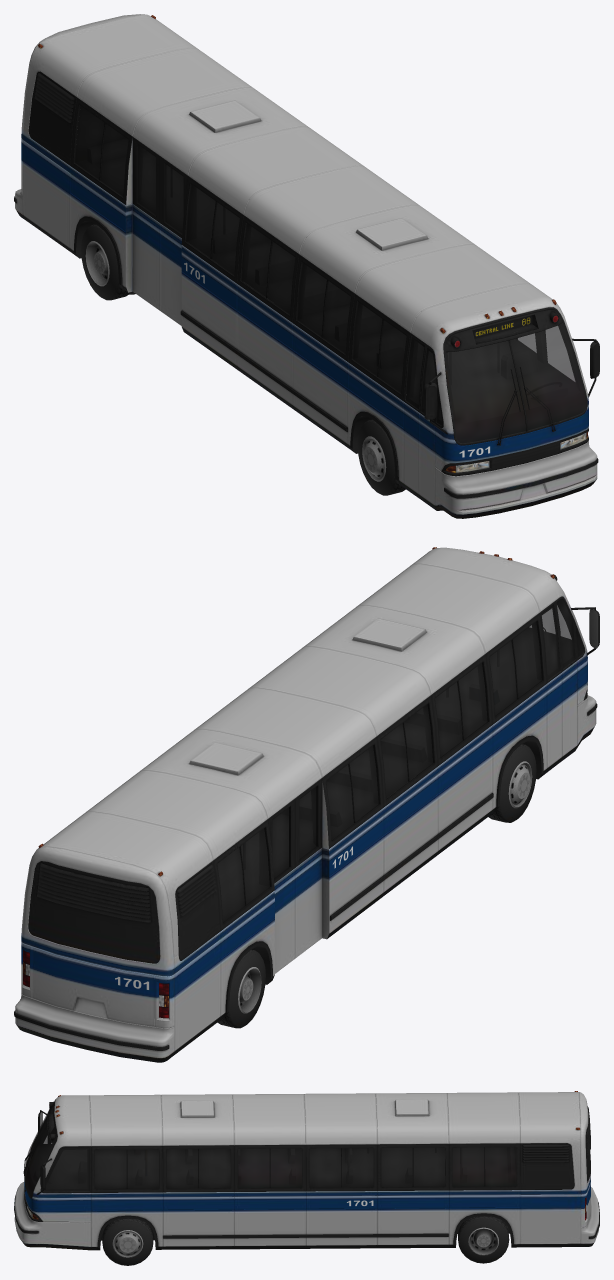
Rendered from bus_city.glb.
3 views of the same model, one above another, from view 1: azimuth 30°, elevation 25°; view 2: azimuth 150°, elevation 25°; view 3: azimuth 270°, elevation 25° (orthographic). The views are drawn at different scales.
Parts seen in each view (by area): view 1: paint, glass, wheel, lights; view 2: paint, glass, wheel, lights; view 3: paint, glass, wheel.
Boxes of the visible parts, box(x1,y1,x2,y2) form: paint: box(14, 14, 599, 518); glass: box(75, 106, 585, 443); wheel: box(81, 224, 405, 495); lights: box(38, 15, 587, 472); paint: box(14, 547, 599, 1062); glass: box(217, 599, 583, 921); wheel: box(217, 744, 536, 1028); lights: box(23, 547, 554, 1018); paint: box(14, 1092, 599, 1250); glass: box(24, 1111, 516, 1196); wheel: box(102, 1216, 509, 1265).
Bounding box in the file's own units: 2.75 × 3.05 × 12.
5 materials, 5 textured.
